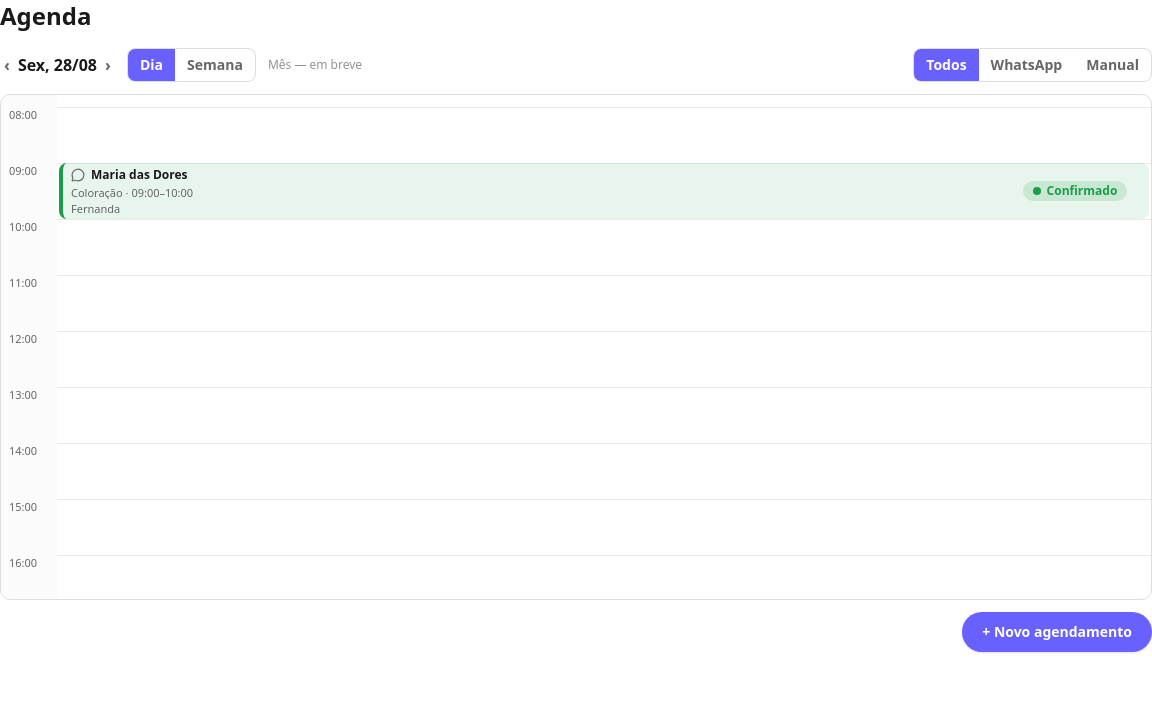
Scenario: Agenda › agendamento FUTURO não oferece Concluído/Não compareceu (D1)
Click the text "Maria das Dores" at point(139, 175), box [91,167,188,183]
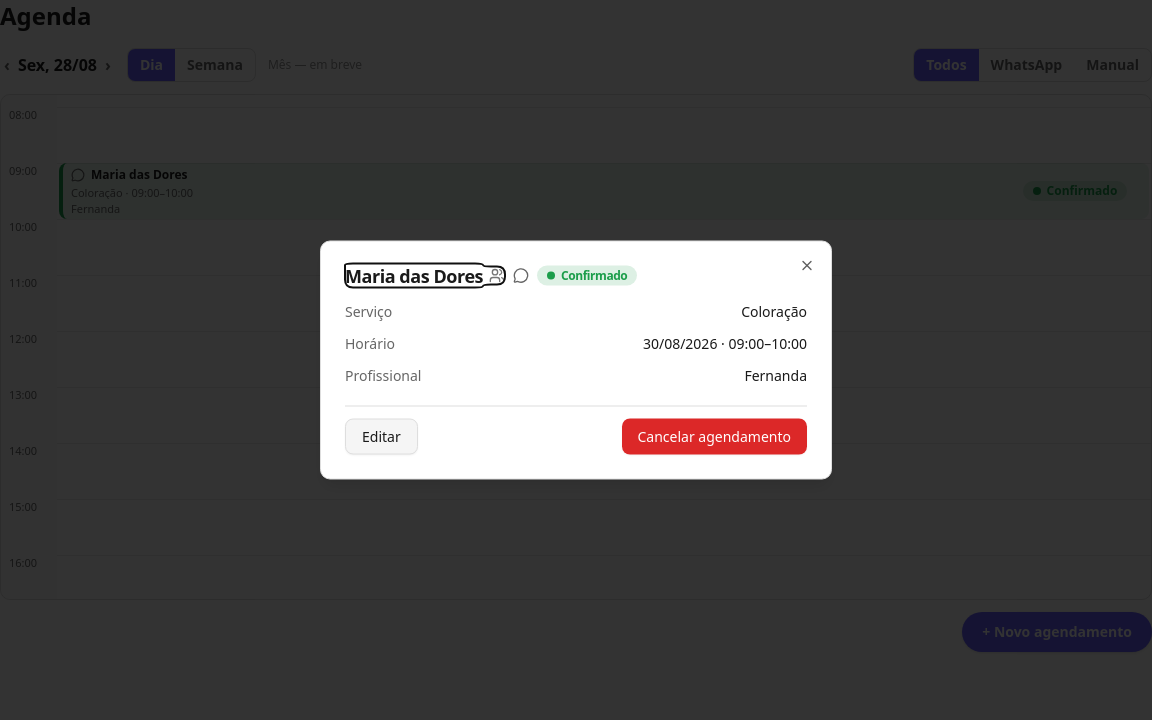
Result: the button "Editar" is shown at [345,418,418,454]
